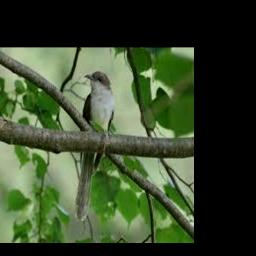Cuckoo: (76, 71, 115, 222)
